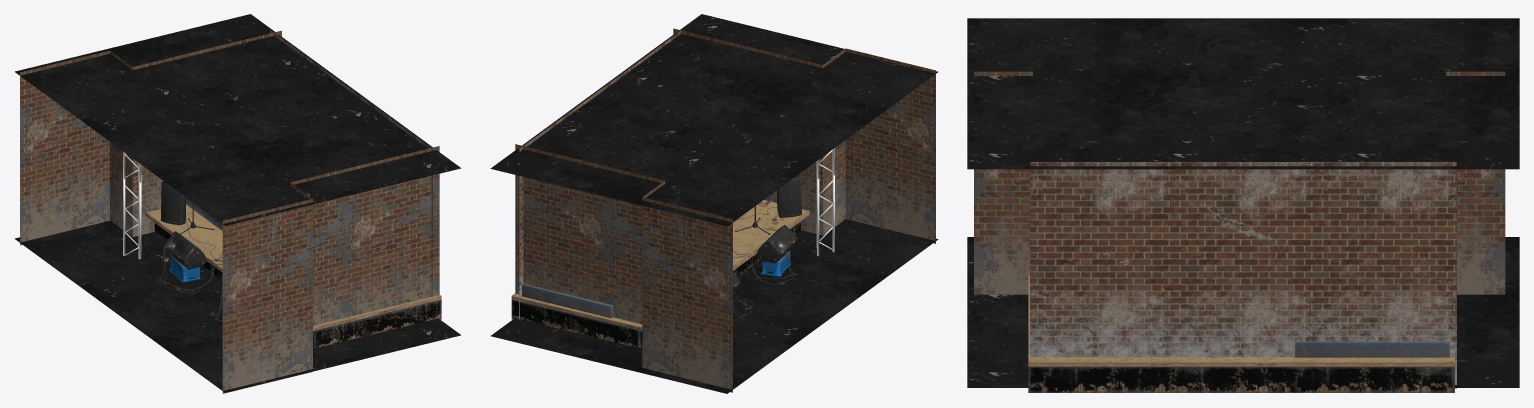
The model's file is every_gig_ever.glb.
3 renders of one model, left to right at view 1: azimuth 30°, elevation 25°; view 2: azimuth 150°, elevation 25°; view 3: azimuth 270°, elevation 25°, orthographic. The views are drawn at different scales.
Parts seen in each view (by area): view 1: Object_10, Object_32, Object_9, Object_20, Object_21, Object_29, Object_16, Object_3, Object_24; view 2: Object_10, Object_32, Object_9, Object_21, Object_20, Object_29, Object_6, Object_3, Object_16, Object_24; view 3: Object_10, Object_3, Object_32, Object_9, Object_20, Object_21, Object_6.
Part boxes in pixels (bbox=[...]): Object_10: bbox=[15, 14, 461, 225]; Object_32: bbox=[20, 30, 439, 393]; Object_9: bbox=[15, 221, 460, 392]; Object_20: bbox=[154, 223, 441, 348]; Object_21: bbox=[145, 205, 441, 330]; Object_29: bbox=[160, 181, 222, 294]; Object_16: bbox=[123, 151, 141, 259]; Object_3: bbox=[269, 30, 432, 297]; Object_24: bbox=[169, 256, 200, 282]; Object_10: bbox=[490, 14, 938, 226]; Object_32: bbox=[515, 28, 935, 392]; Object_9: bbox=[490, 219, 938, 393]; Object_21: bbox=[511, 200, 809, 331]; Object_20: bbox=[511, 221, 800, 348]; Object_29: bbox=[733, 173, 801, 292]; Object_6: bbox=[522, 283, 613, 318]; Object_3: bbox=[519, 30, 682, 319]; Object_16: bbox=[816, 148, 834, 255]; Object_24: bbox=[733, 250, 791, 310]; Object_10: bbox=[967, 18, 1519, 169]; Object_3: bbox=[1030, 162, 1456, 388]; Object_32: bbox=[974, 71, 1505, 294]; Object_9: bbox=[967, 237, 1519, 387]; Object_20: bbox=[1028, 366, 1454, 392]; Object_21: bbox=[1028, 275, 1454, 366]; Object_6: bbox=[1295, 341, 1449, 357].
Size of the model in its own units: 10.81 by 7.45 by 16.46.
32 materials, 28 textured.
